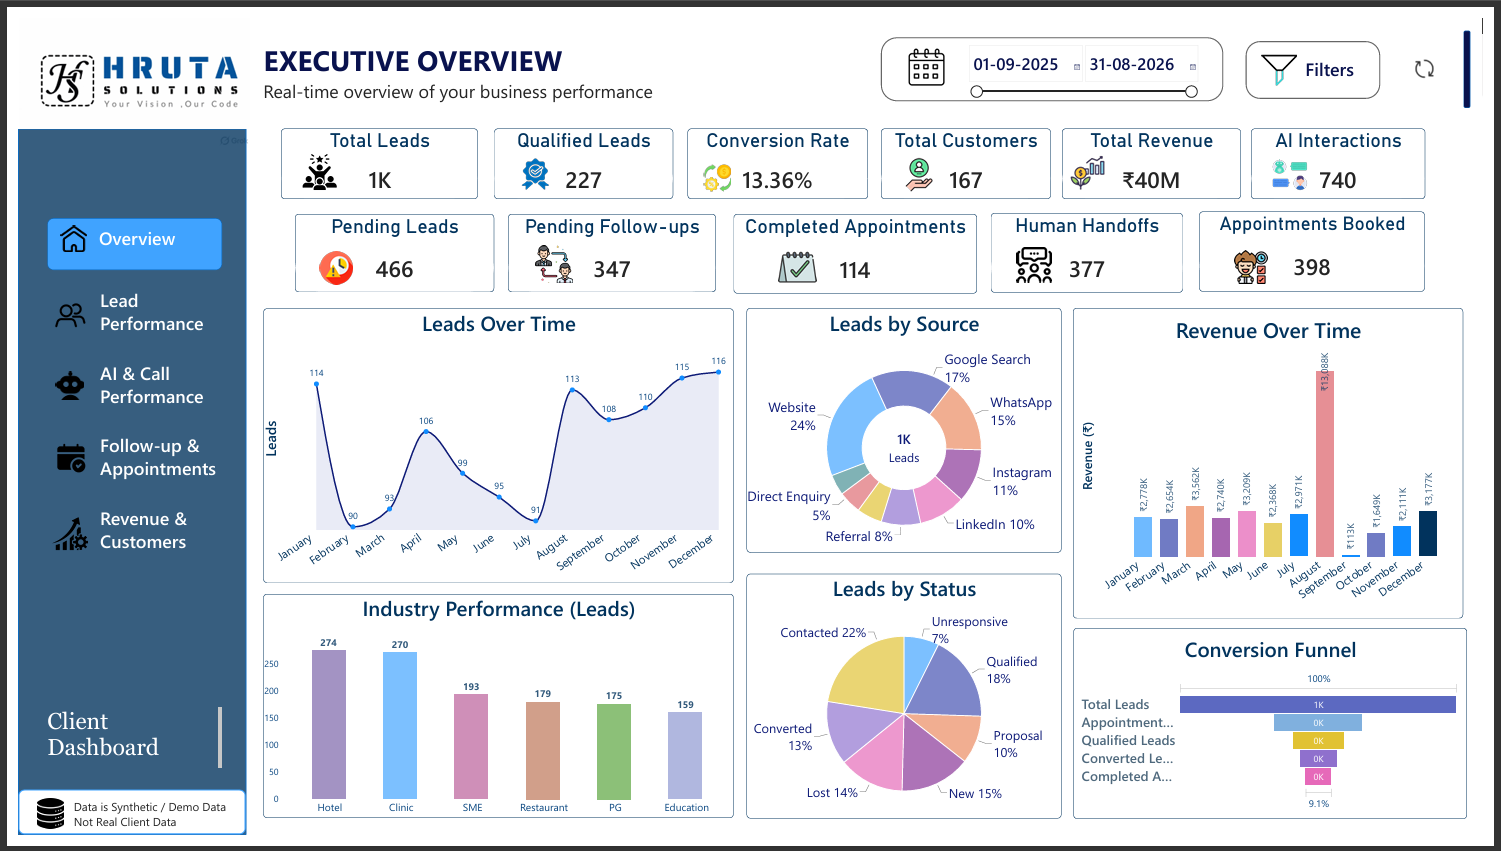

The dashboard page shown, as its layout file describes it:
{"tool":"powerbi","page":{"name":"EXECUTIVE OVERVIEW","canvas":[3050,1700],"ordinal":0},"visuals":[{"type":"image","box":[0,0,485,270],"z":0},{"type":"shape","box":[0,230,474,1470],"z":1000},{"type":"textbox","box":[59.8,1435.7,364.6,128.2],"z":2000},{"type":"shape","box":[3010.7,25,14.3,160.7],"z":3000},{"type":"shape","box":[59.8,415.9,364.6,108.2],"z":4000},{"type":"textbox","box":[40,431.7,373.3,91.7],"z":5000},{"type":"image","box":[71.7,431.7,86.7,55],"z":6000},{"type":"textbox","box":[170,560,288.3,123.3],"z":7000},{"type":"textbox","box":[170,713.3,243.3,106.7],"z":8000},{"type":"textbox","box":[170,863.3,288.3,103.3],"z":9000},{"type":"textbox","box":[170,1015,255,111.7],"z":10000},{"type":"shape","box":[0,1606.7,473.3,93.3],"z":11000},{"type":"textbox","box":[73.3,1625,366.7,75],"z":12000},{"type":"image","box":[71.7,881.7,75,68.3],"z":13000},{"type":"image","box":[60,1035,95,76.7],"z":14000},{"type":"image","box":[78.3,731.7,60,68.3],"z":15000},{"type":"image","box":[73.3,576.7,70,90],"z":16000},{"type":"image","box":[23.3,1625,86.7,63.3],"z":17000},{"type":"textbox","box":[510,46.7,1550,223.3],"z":18000},{"type":"shape","box":[1796.7,38.9,713.3,133.3],"z":19000},{"type":"shape","box":[2556.7,46.7,280,120],"z":20000},{"type":"textbox","box":[2626.7,80,210,83.3],"z":21000},{"type":"image","box":[2580,70,95,75],"z":22000},{"type":"cardVisual","title":"Total Leads","fields":{"Data":["Leads.Total Leads"]},"box":[546.7,228.7,410,147.2],"z":23000},{"type":"cardVisual","title":"Qualified Leads","fields":{"Data":["Leads.Qualified Leads"]},"box":[990.9,228.7,373.2,147.2],"z":24000},{"type":"cardVisual","title":"Conversion Rate","fields":{"Data":["Leads.Conversion Rate"]},"box":[1394.3,228.6,375.7,147.1],"z":25000},{"type":"cardVisual","title":"Total Customers","fields":{"Data":["Customers.Total Customers"]},"box":[1797.1,228.6,354.3,147.1],"z":26000},{"type":"cardVisual","title":"Total Revenue","fields":{"Data":["Customers.Total Revenue"]},"box":[2174.3,228.6,372.9,147.1],"z":27000},{"type":"cardVisual","title":"Pending Leads","fields":{"Data":["Customers.Pending Leads"]},"box":[575.6,407.4,415.3,163],"z":28000},{"type":"cardVisual","title":"Pending Follow-ups","fields":{"Data":["Customers.Pending Follow-ups"]},"box":[1020,406.7,433.3,163.3],"z":29000},{"type":"cardVisual","title":"AI Interactions","fields":{"Data":["AI_Interactions.AI Interactions"]},"box":[2567.9,228.7,362.7,147.2],"z":30000},{"type":"cardVisual","title":"Human Handoffs","fields":{"Data":["Leads.Human Handoffs"]},"box":[2026.4,404.8,400,166.7],"z":31000},{"type":"cardVisual","title":"Appointments Booked","fields":{"Data":["Leads.Appointments Booked"]},"box":[2460.1,402.1,470,166.7],"z":32000},{"type":"cardVisual","title":"Completed Appointments","fields":{"Data":["Leads.Completed Appointments"]},"box":[1490,406.7,506.7,166.7],"z":33000},{"type":"lineChart","title":"Leads Over Time","fields":{"Category":["Leads.Lead_Date.Variation.Date Hierarchy.Month"],"Y":["Leads.Total Leads"]},"box":[509.9,603.9,979.9,572.6],"z":34000},{"type":"donutChart","title":"Leads by Source","fields":{"Category":["Leads.Lead_Source"],"Y":["Leads.Total Leads"]},"box":[1516.7,603.3,656.7,510],"z":35000},{"type":"pieChart","title":"Leads by Status","fields":{"Category":["Leads.Lead_Status"],"Y":["Leads.Total Leads"]},"box":[1516.7,1156.7,656.7,510],"z":36000},{"type":"clusteredColumnChart","title":"Industry Performance (Leads)","fields":{"Category":["Leads.Industry"],"Y":["Leads.Total Leads"]},"box":[509.9,1199.2,979.9,467.2],"z":37000},{"type":"lineClusteredColumnComboChart","title":"Revenue Over Time","fields":{"Category":["Revenue.Revenue_Date.Variation.Date Hierarchy.Month"],"Y":["Customers.Total Revenue"]},"box":[2196.7,603.3,813.3,646.7],"z":38000},{"type":"funnel","title":"Conversion Funnel","fields":{"Category":["FunnelStages.Stage"],"Y":["AI_Interactions.Funnel Value"]},"box":[2198,1270,820,398],"z":39000},{"type":"slicer","fields":{"Values":["Leads.Lead_Date"]},"box":[1973.3,50,486.7,156.7],"z":40000},{"type":"actionButton","box":[2876.7,56.7,106.7,96.7],"z":41000},{"type":"actionButton","box":[2580,70,95,75],"z":42000},{"type":"image","box":[1845.9,57,92,88],"z":43000},{"type":"actionButton","box":[38.3,550,401.7,133.3],"z":44000},{"type":"image","box":[524.3,280,205.7,81.4],"z":45000},{"type":"image","box":[1030,287.1,94.3,74.3],"z":46000},{"type":"image","box":[1422.9,302.9,67.1,58.6],"z":47000},{"type":"image","box":[2180,284.3,94.3,74.3],"z":48000},{"type":"image","box":[1815.7,290,121.4,71.4],"z":49000},{"type":"image","box":[2608.6,272.9,80,104.3],"z":50000},{"type":"image","box":[2532.9,477.1,70,81.4],"z":51000},{"type":"image","box":[2080,451.4,72.9,122.9],"z":52000},{"type":"image","box":[1582.9,400,80,235.7],"z":53000},{"type":"image","box":[1077.1,458.6,78.6,107.1],"z":54000},{"type":"image","box":[628.2,441.6,68.6,154.3],"z":55000},{"type":"actionButton","box":[62.7,712.1,350.4,136.7],"z":56000},{"type":"actionButton","box":[31.3,857.4,413,128.2],"z":57000},{"type":"actionButton","box":[17.1,1014.1,438.7,105.4],"z":58000}]}

Visuals, with their boxes in screenshot pixels (x1, y1, x2, y2), scaled from the page's 3050x1700 canvas onto the 1501x851 screenshot:
image: [left=0, top=0, right=239, bottom=135]
shape: [left=0, top=115, right=233, bottom=850]
textbox: [left=29, top=719, right=209, bottom=783]
shape: [left=1482, top=13, right=1489, bottom=93]
shape: [left=29, top=208, right=209, bottom=262]
textbox: [left=20, top=216, right=203, bottom=262]
image: [left=35, top=216, right=78, bottom=244]
textbox: [left=84, top=280, right=226, bottom=342]
textbox: [left=84, top=357, right=203, bottom=410]
textbox: [left=84, top=432, right=226, bottom=484]
textbox: [left=84, top=508, right=209, bottom=564]
shape: [left=0, top=804, right=233, bottom=850]
textbox: [left=36, top=813, right=217, bottom=850]
image: [left=35, top=441, right=72, bottom=476]
image: [left=30, top=518, right=76, bottom=557]
image: [left=39, top=366, right=68, bottom=400]
image: [left=36, top=289, right=71, bottom=334]
image: [left=11, top=813, right=54, bottom=845]
textbox: [left=251, top=23, right=1014, bottom=135]
shape: [left=884, top=19, right=1235, bottom=86]
shape: [left=1258, top=23, right=1396, bottom=83]
textbox: [left=1293, top=40, right=1396, bottom=82]
image: [left=1270, top=35, right=1316, bottom=73]
"Total Leads" cardVisual: [left=269, top=114, right=471, bottom=188]
"Qualified Leads" cardVisual: [left=488, top=114, right=671, bottom=188]
"Conversion Rate" cardVisual: [left=686, top=114, right=871, bottom=188]
"Total Customers" cardVisual: [left=884, top=114, right=1059, bottom=188]
"Total Revenue" cardVisual: [left=1070, top=114, right=1254, bottom=188]
"Pending Leads" cardVisual: [left=283, top=204, right=488, bottom=286]
"Pending Follow-ups" cardVisual: [left=502, top=204, right=715, bottom=285]
"AI Interactions" cardVisual: [left=1264, top=114, right=1442, bottom=188]
"Human Handoffs" cardVisual: [left=997, top=203, right=1194, bottom=286]
"Appointments Booked" cardVisual: [left=1211, top=201, right=1442, bottom=285]
"Completed Appointments" cardVisual: [left=733, top=204, right=983, bottom=287]
"Leads Over Time" lineChart: [left=251, top=302, right=733, bottom=589]
"Leads by Source" donutChart: [left=746, top=302, right=1070, bottom=557]
"Leads by Status" pieChart: [left=746, top=579, right=1070, bottom=834]
"Industry Performance (Leads)" clusteredColumnChart: [left=251, top=600, right=733, bottom=834]
"Revenue Over Time" lineClusteredColumnComboChart: [left=1081, top=302, right=1481, bottom=626]
"Conversion Funnel" funnel: [left=1082, top=636, right=1485, bottom=835]
slicer - Leads.Lead_Date: [left=971, top=25, right=1211, bottom=103]
actionButton: [left=1416, top=28, right=1468, bottom=77]
actionButton: [left=1270, top=35, right=1316, bottom=73]
image: [left=908, top=29, right=954, bottom=73]
actionButton: [left=19, top=275, right=217, bottom=342]
image: [left=258, top=140, right=359, bottom=181]
image: [left=507, top=144, right=553, bottom=181]
image: [left=700, top=152, right=733, bottom=181]
image: [left=1073, top=142, right=1119, bottom=180]
image: [left=894, top=145, right=953, bottom=181]
image: [left=1284, top=137, right=1323, bottom=189]
image: [left=1247, top=239, right=1281, bottom=280]
image: [left=1024, top=226, right=1060, bottom=287]
image: [left=779, top=200, right=818, bottom=318]
image: [left=530, top=230, right=569, bottom=283]
image: [left=309, top=221, right=343, bottom=298]
actionButton: [left=31, top=356, right=203, bottom=425]
actionButton: [left=15, top=429, right=219, bottom=493]
actionButton: [left=8, top=508, right=224, bottom=560]
